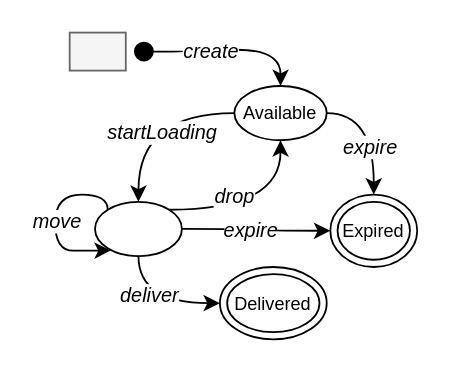
The diagram is 449 pixels wide and 371 high, and some of its shapes have lost their labels. The box of each missing label's shape, as (x1, y1, x2, y2) in pixels:
Carried: (93, 200, 182, 256)
Start: (68, 31, 126, 71)
